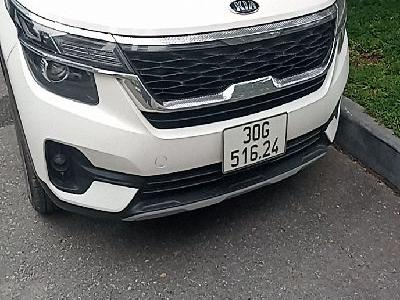car: (222, 111, 289, 174)
